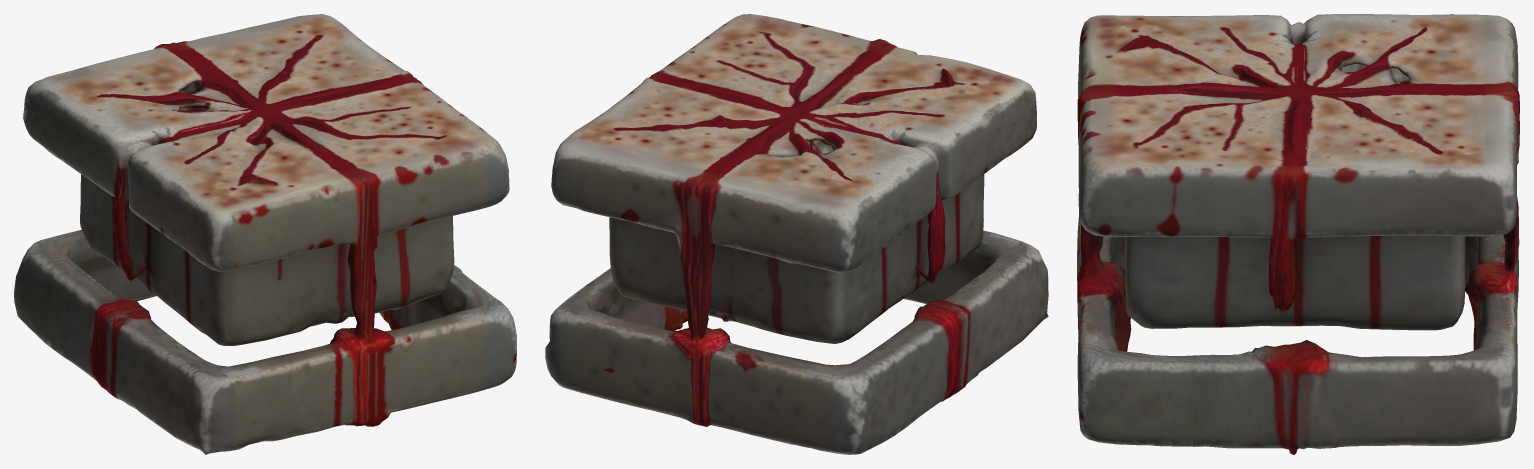
The model's file is blood_altar.glb.
The picture shows the model from 3 angles, left to right: view 1: azimuth 30°, elevation 25°; view 2: azimuth 150°, elevation 25°; view 3: azimuth 270°, elevation 25°; orthographic projection. The views are drawn at different scales.
Size of the model in its own units: 1.94 by 1.46 by 2.
1 material, 1 textured.
